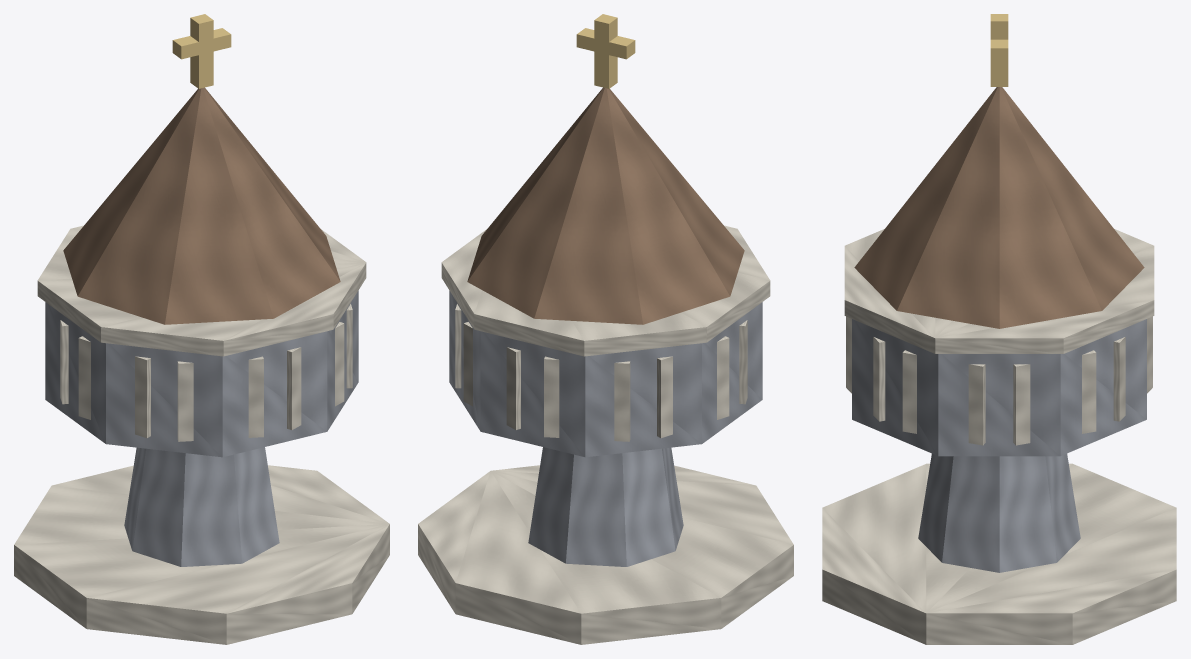
The model's file is vampire-crypt-and-gothic-cathedral-font-8df03eda__23008.glb.
3 views of the same model, side by side, from view 1: azimuth 30°, elevation 25°; view 2: azimuth 150°, elevation 25°; view 3: azimuth 270°, elevation 25° (orthographic).
Visible parts, largest first — view 1: font; view 2: font; view 3: font.
Part boxes in pixels (<box>): font: <box>14,14,389,644</box>; font: <box>418,14,793,644</box>; font: <box>822,14,1176,644</box>.
Bounding box in the file's own units: 1.22 × 2.1 × 1.22.
5 materials, 3 textured.
